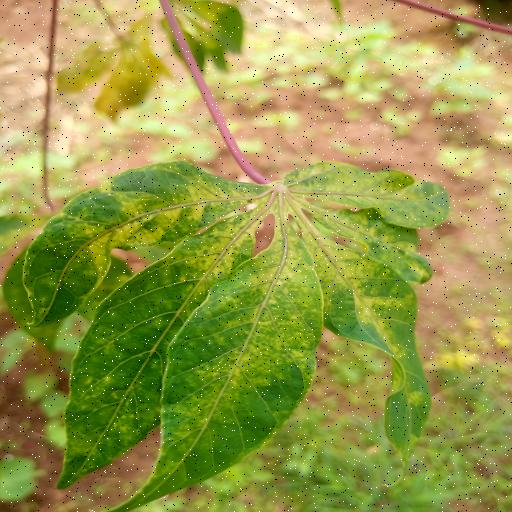Cassava_Mosaic: (0, 157, 452, 512)
